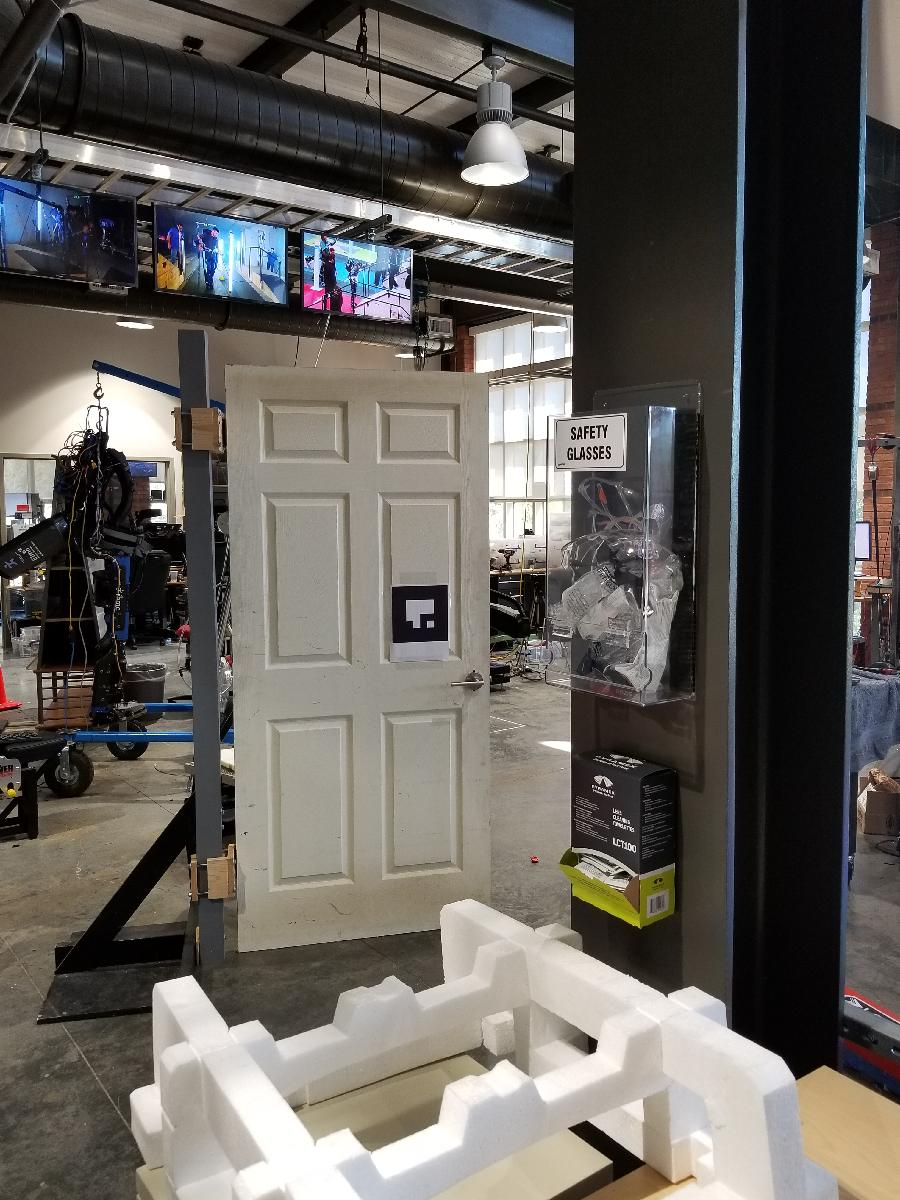door: (220, 358, 498, 958)
doorHandle: (451, 670, 490, 696)
